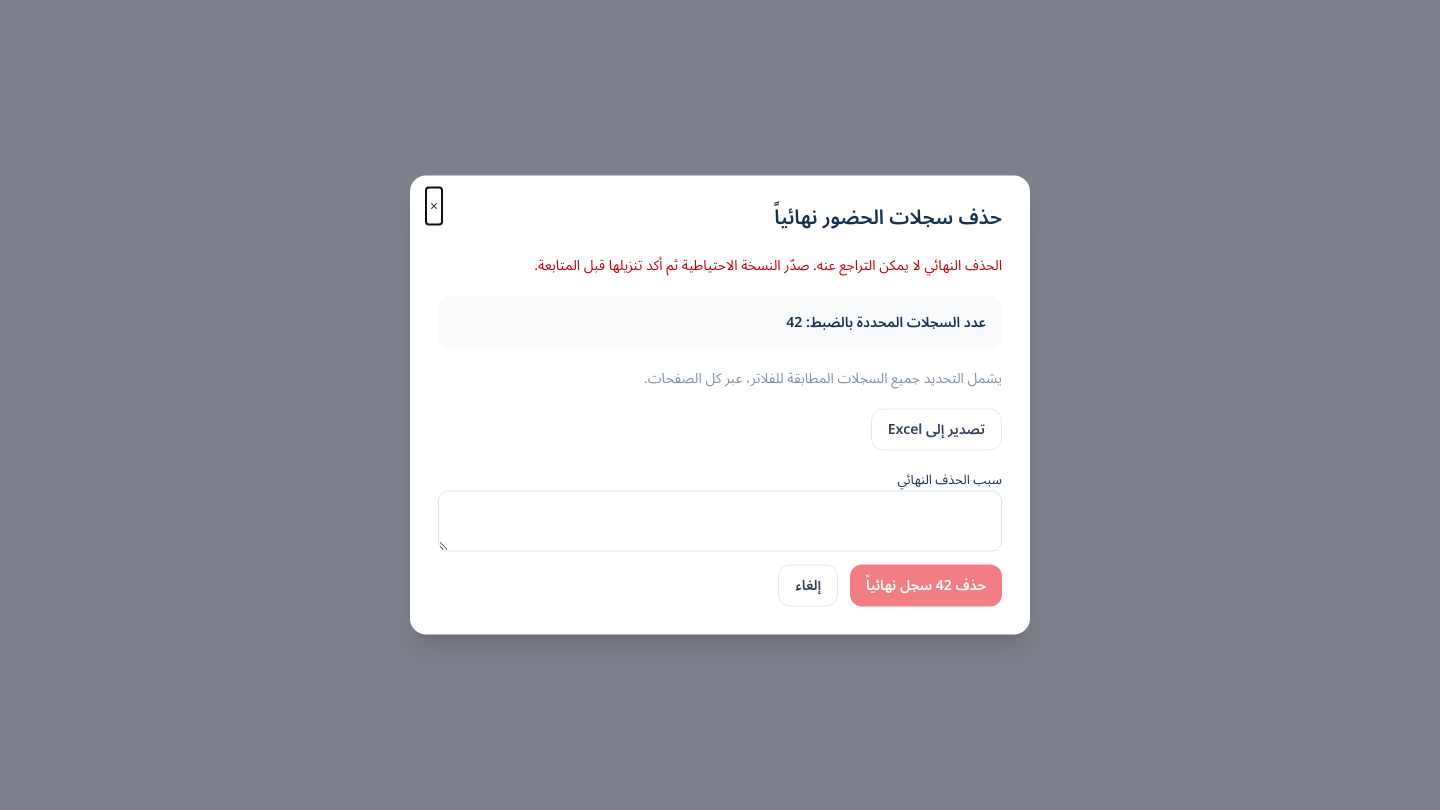
Test: mandatory backup consent interface › shows exact bulk count and keeps consent hidden until the full export completes
Expected: the text "عدد السجلات المحددة بالضبط: 42" is shown, [438,296,1002,348]
Expected: the field labelled "أؤكد أنني قمت بتحميل نسخة Excel احتياطية من سجلات الحضور." is not shown
Click the button "تصدير إلى Excel" at (936, 430), box [871,408,1002,450]
(page scrolled)
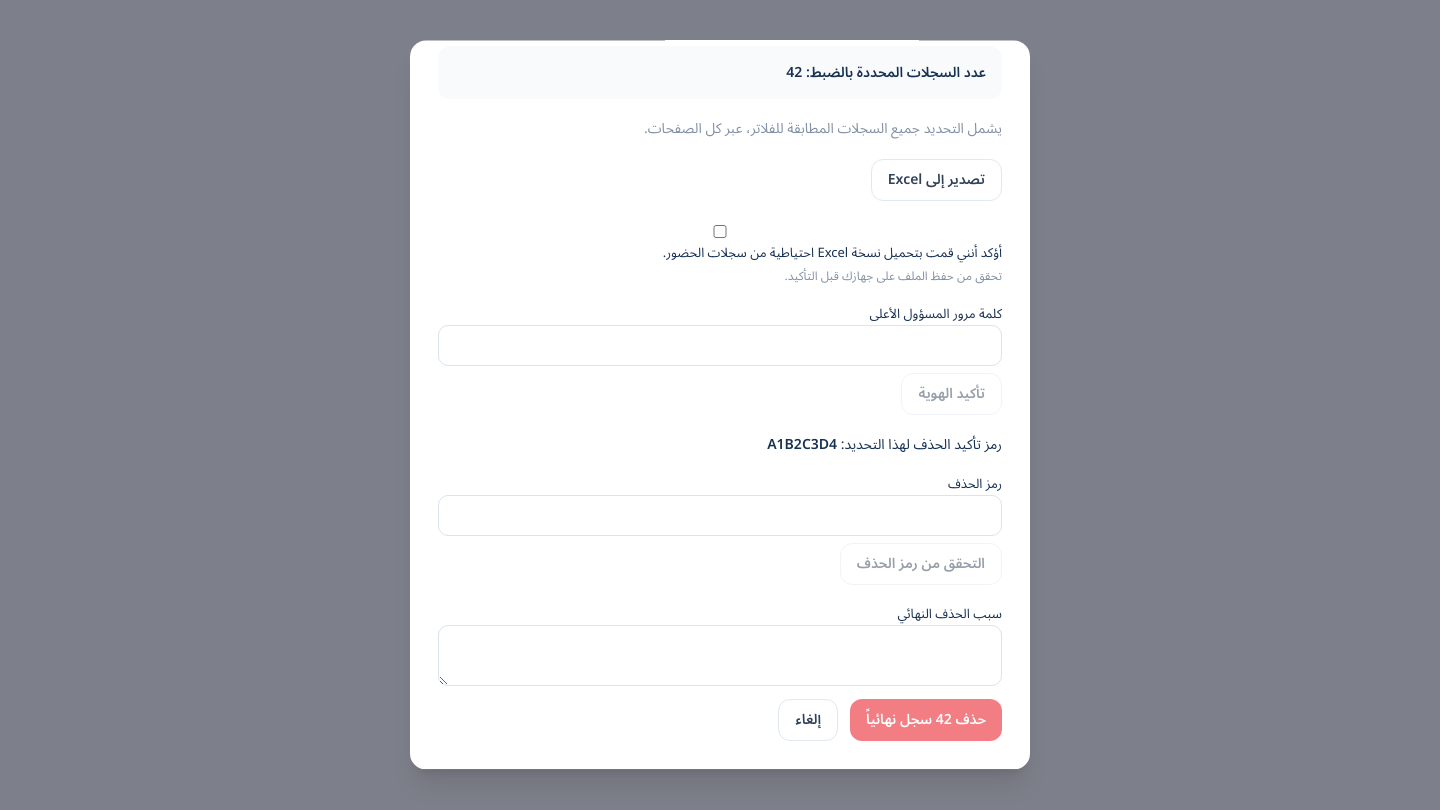
Expected: the button "حذف 42 سجل نهائياً" is disabled, [850,700,1002,742]
Expected: the checkbox labelled "أؤكد أنني قمت بتحميل نسخة Excel احتياطية من سجلات الحضور." is not checked, [438,226,1002,238]
